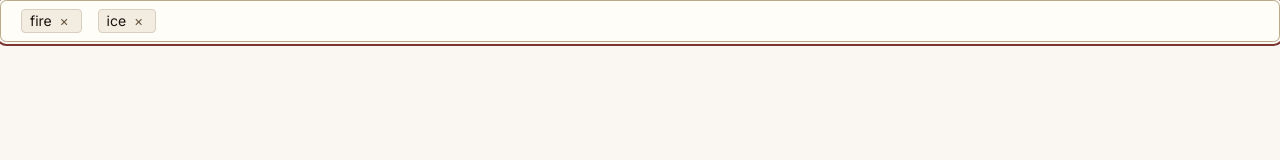
Test case: <TagInput> › Backspace inside non-empty edit input edits text, does not remove chip
The image size is (1280, 160).
Click the text "fire". click: (41, 21)
box: [30,10,52,32]
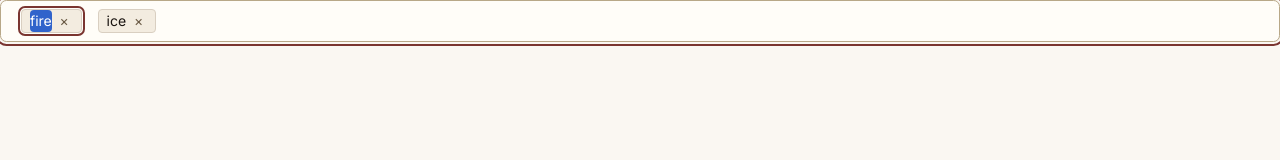
Press End Backspace
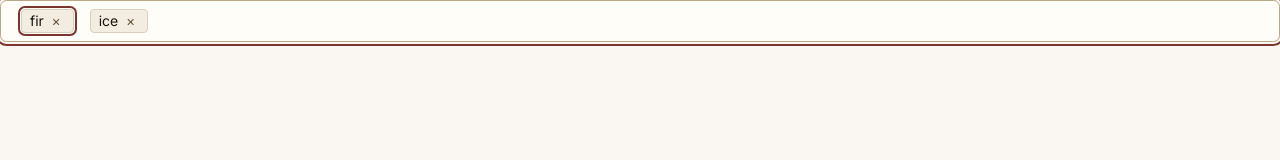
Expected: the text "ice" is shown, [99,10,118,32]
Expected: the field named "edit tag 'fire'" holds "fir", [30,10,44,32]
